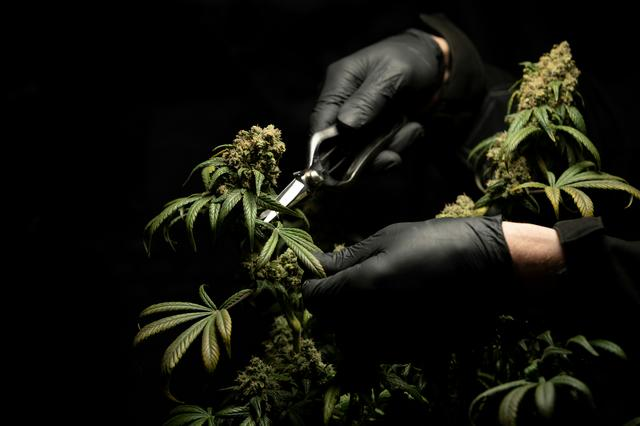Marijuana Plant: (84, 64, 640, 426)
